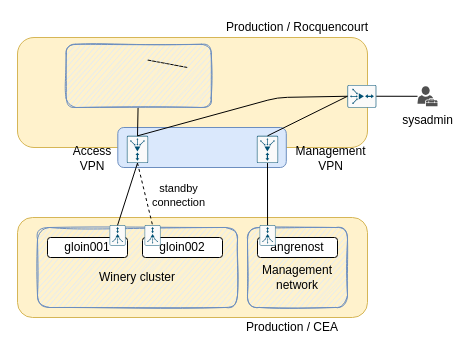
The diagram is 470 pixels wide and 354 high, and some of its shapes have lost their labels. The box of each missing label's shape, as (x1, y1, x2, y2) in pixels:
Firewall: (117, 126, 286, 168)
SWH cluster: (65, 43, 211, 108)
